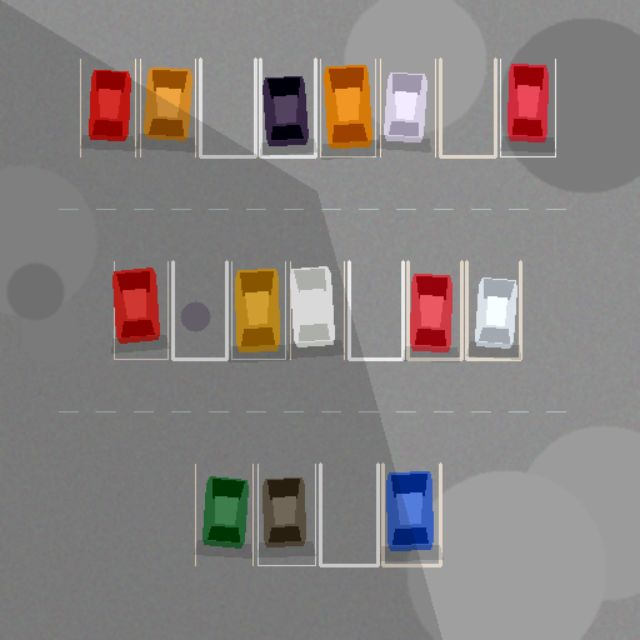space-empty: (320, 464, 378, 565), (200, 59, 255, 156), (440, 59, 495, 156), (172, 261, 226, 359), (349, 261, 402, 359)
space-occupied: (382, 464, 440, 565), (195, 464, 252, 565), (258, 464, 315, 565), (80, 59, 135, 156), (140, 59, 195, 156), (260, 59, 315, 156), (320, 59, 375, 156), (380, 59, 435, 156), (500, 59, 555, 156), (114, 261, 168, 359), (231, 261, 285, 359), (290, 261, 344, 359), (466, 261, 520, 359), (408, 261, 461, 359)
